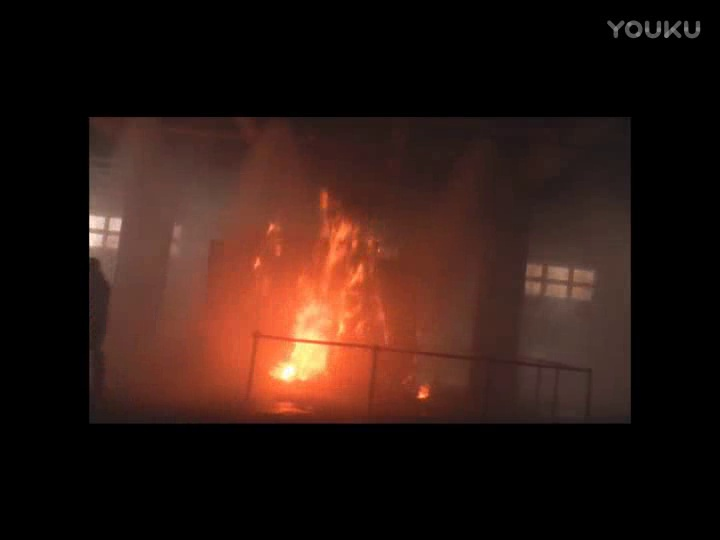fire: (273, 299, 335, 384)
